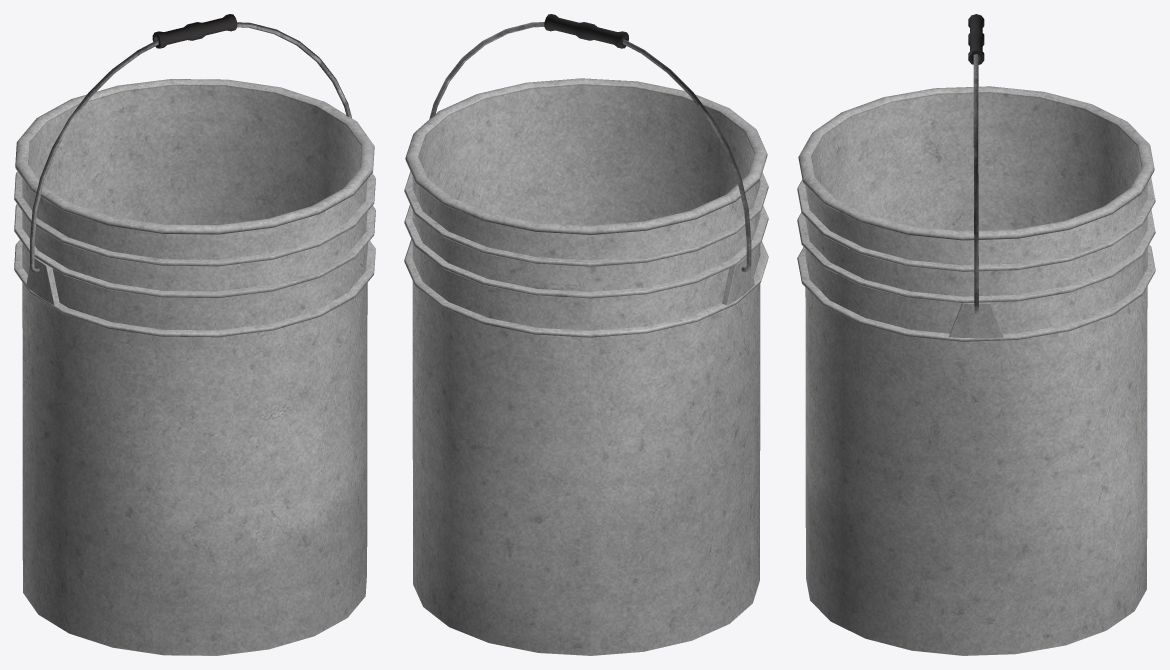
The model's file is Bucket.fbx.
3 views of the same model, side by side, from view 1: azimuth 30°, elevation 25°; view 2: azimuth 150°, elevation 25°; view 3: azimuth 270°, elevation 25° (orthographic).
Parts seen in each view (by area): view 1: Bucket.001; view 2: Bucket.001; view 3: Bucket.001.
Part boxes in pixels (<box>): Bucket.001: <box>14,14,375,655</box>; Bucket.001: <box>404,14,768,655</box>; Bucket.001: <box>797,14,1155,655</box>.
Bounding box in the file's own units: 41.74 × 68.19 × 40.06.
Materials: 1 (1 with a texture image).
